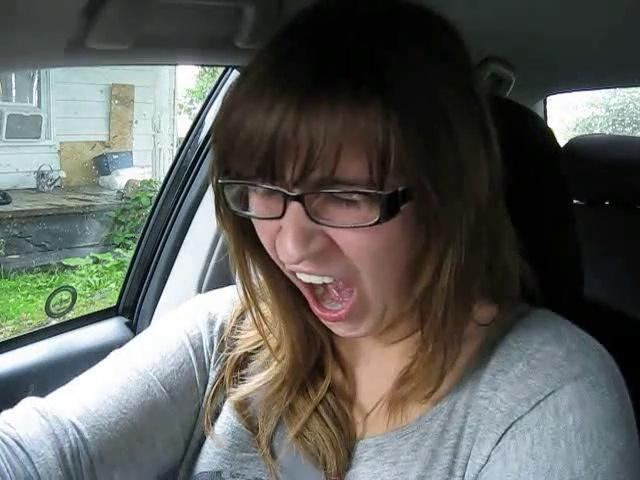close_eyeL: (238, 175, 298, 214)
close_eyeR: (304, 180, 391, 229)
yawn: (275, 264, 373, 329)
